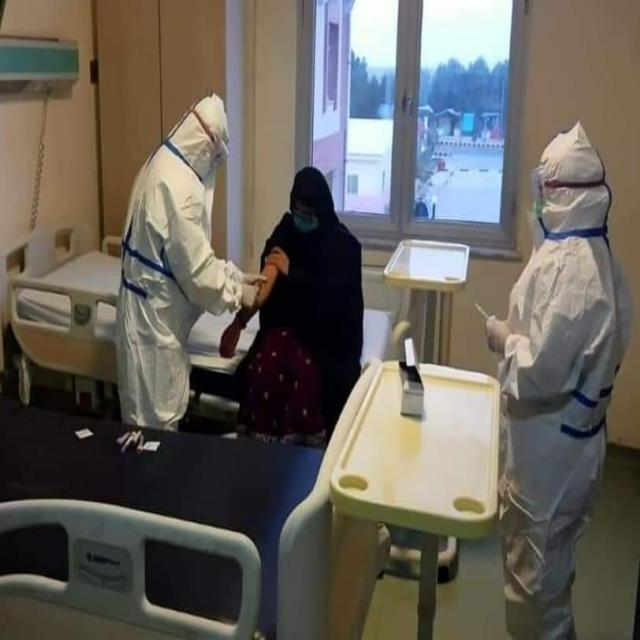Coverall: (499, 124, 629, 636), (117, 90, 240, 432)
Gloves: (484, 306, 515, 352), (240, 269, 267, 285), (241, 283, 260, 305)
Goggles: (530, 166, 549, 202), (211, 138, 233, 159)
Mask: (527, 209, 549, 246), (291, 214, 318, 230), (197, 157, 213, 177)
